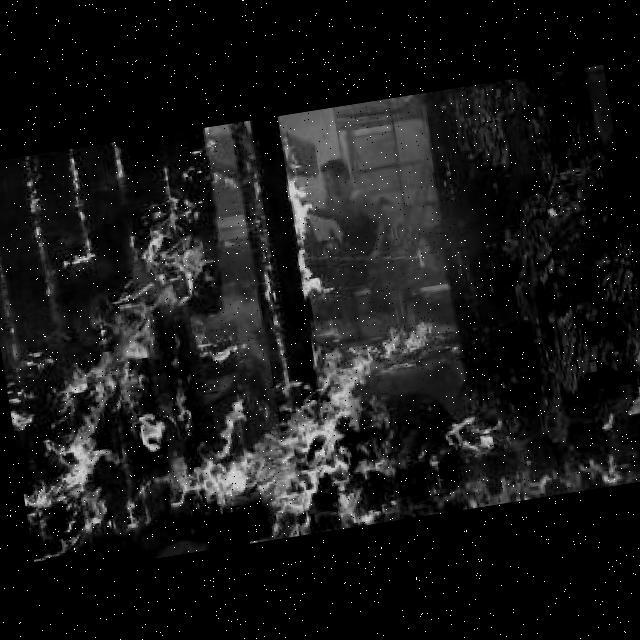Fire: (0, 98, 483, 573)
